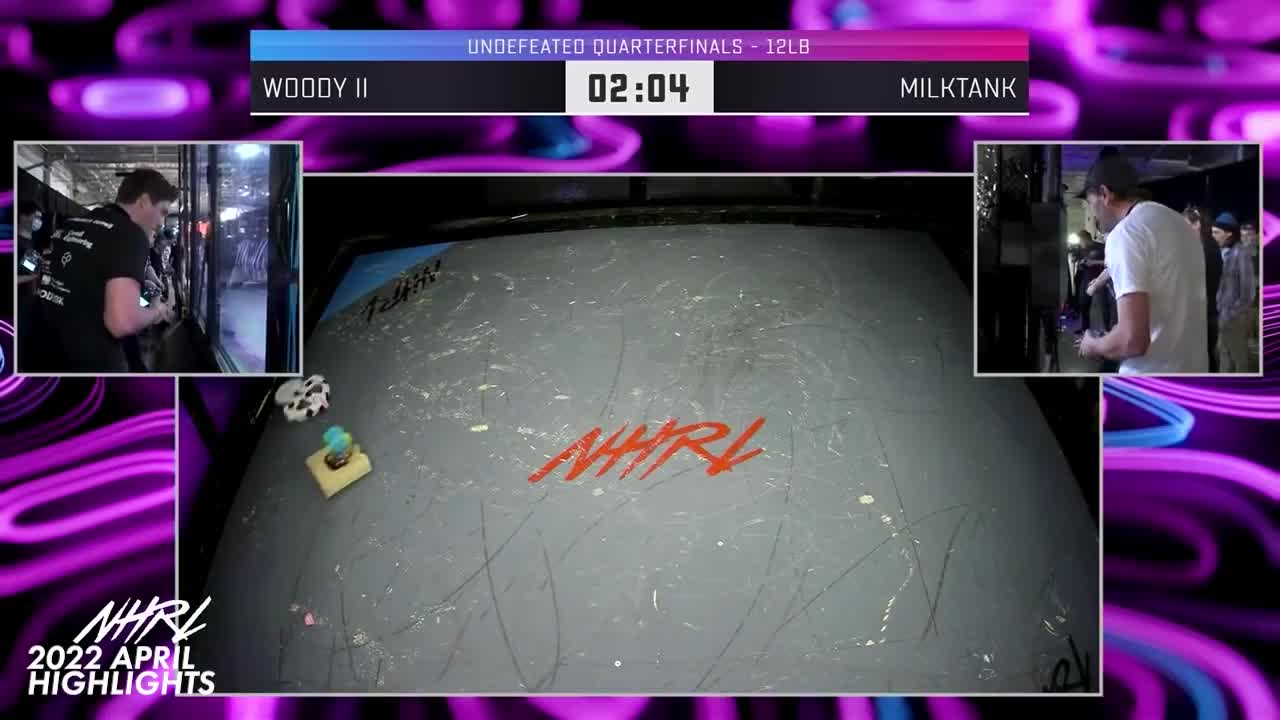combatbot: (304, 441, 373, 499), (276, 375, 335, 422)
